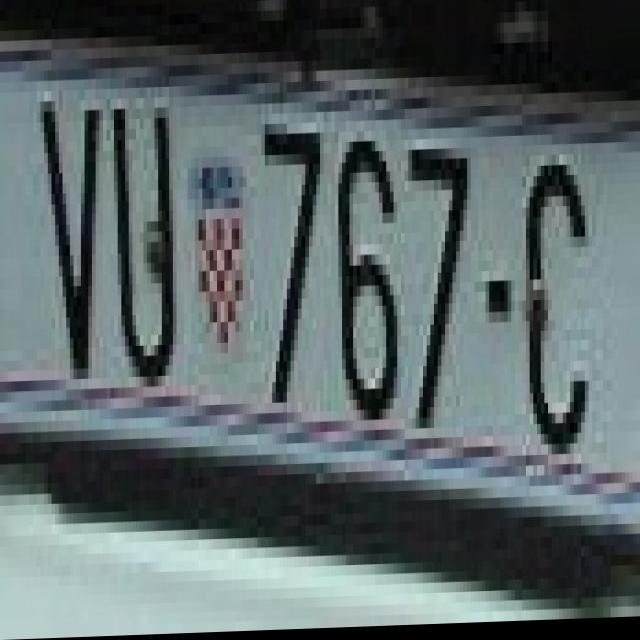6: (331, 123, 394, 434)
7: (404, 121, 468, 453), (261, 94, 320, 415)
C: (522, 138, 600, 460)
U: (106, 87, 176, 389)
V: (33, 80, 99, 382)
